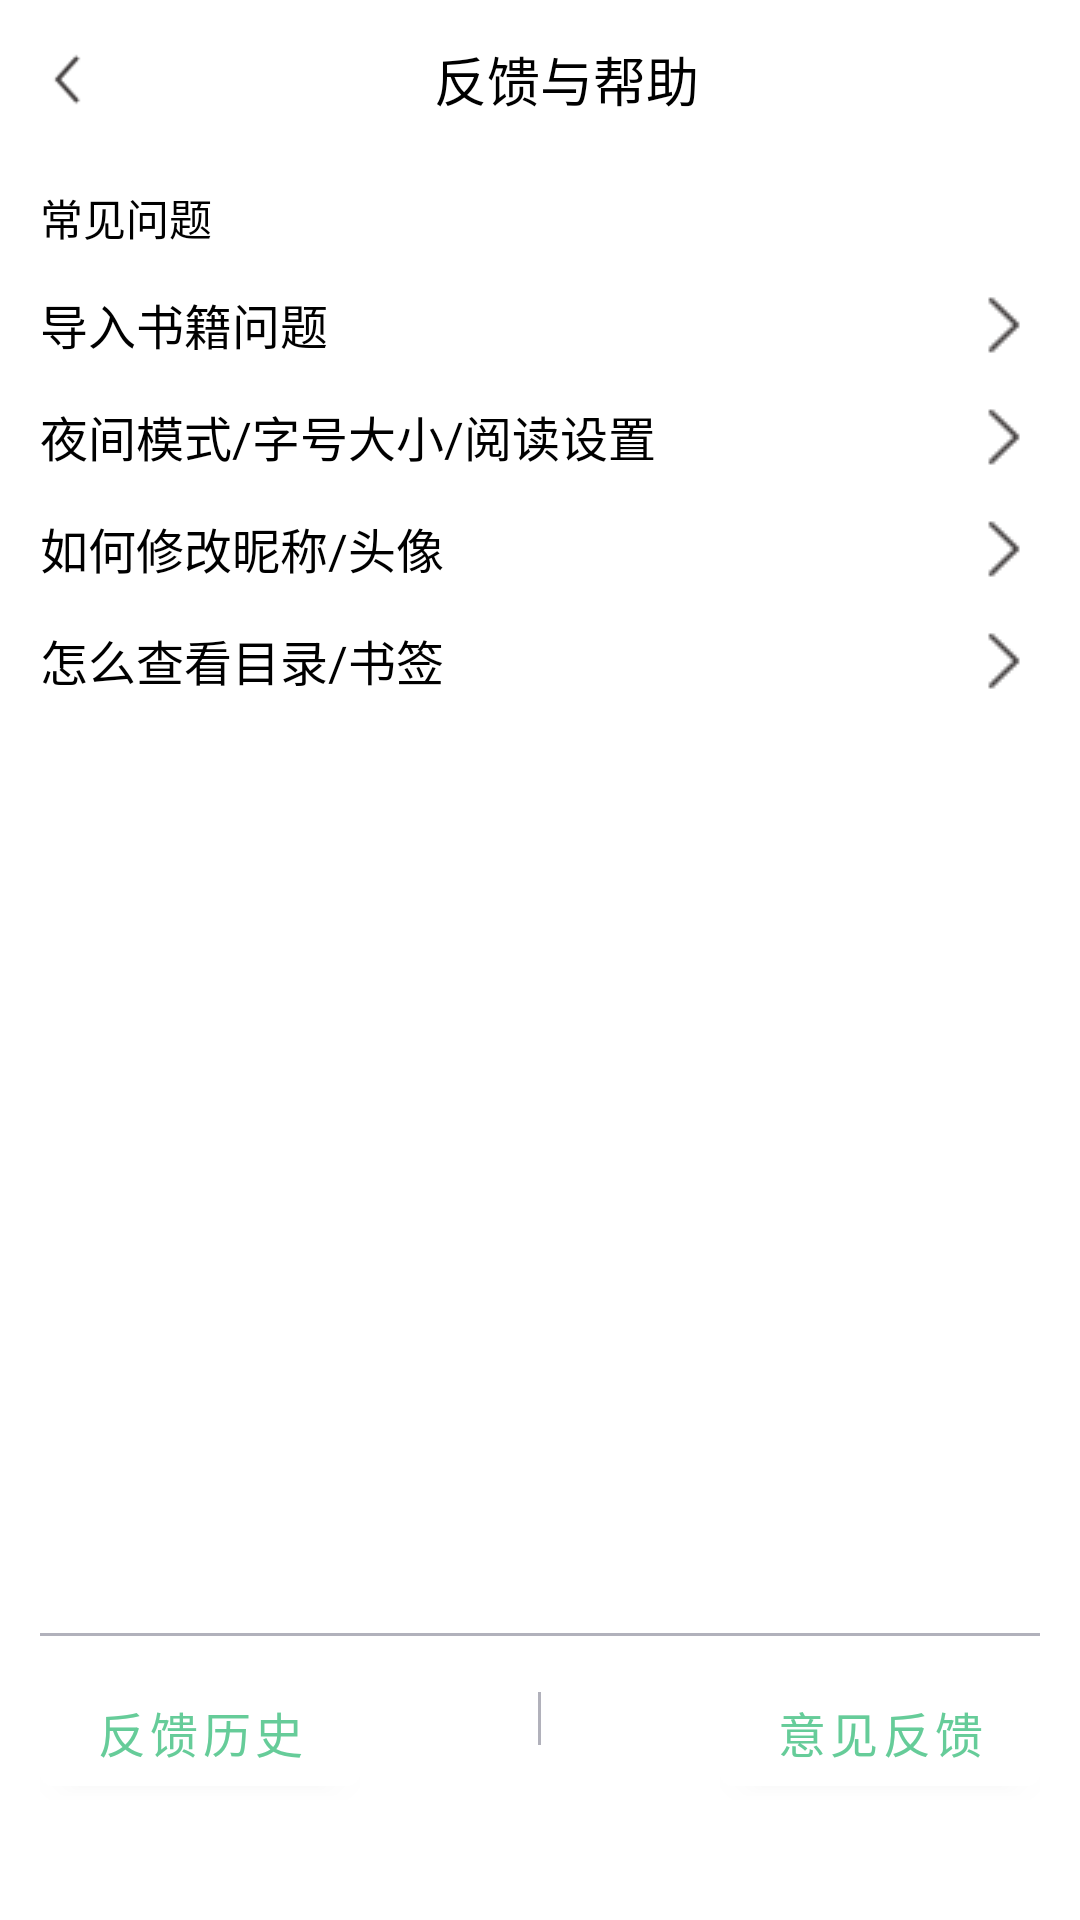

Screen size 1080*1920. Icon name, then its center in pixels as [x,y]:
返回: [67,79]
